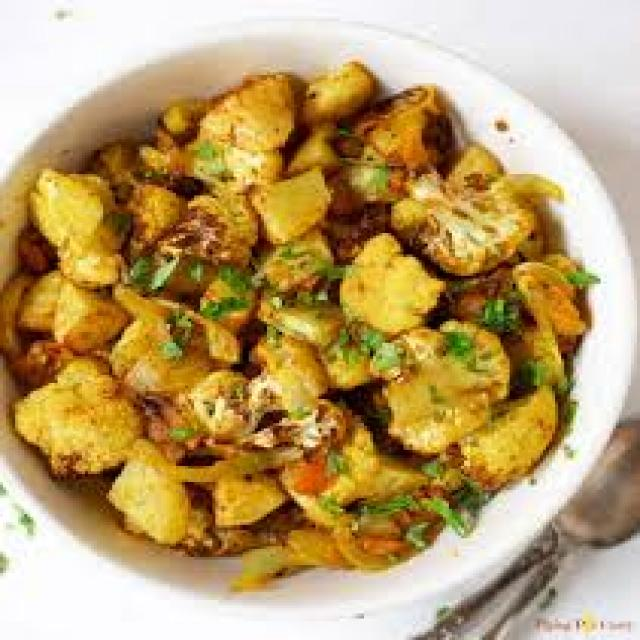Aloo Gobi: (26, 78, 570, 573)
